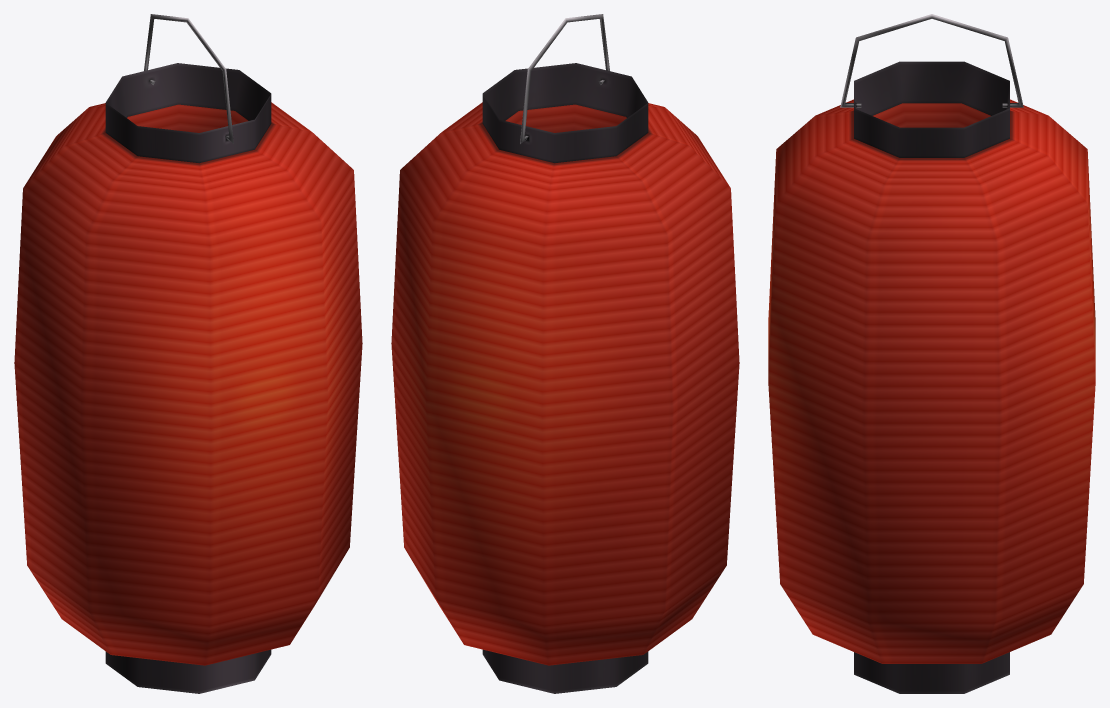
Rendered from jsf_Light_Lantern_03.fbx.
3 views of the same model, side by side, from view 1: azimuth 30°, elevation 25°; view 2: azimuth 150°, elevation 25°; view 3: azimuth 270°, elevation 25° (orthographic).
Visible parts, largest first — view 1: Lantern, Handle; view 2: Lantern, Handle; view 3: Lantern, Handle.
Part boxes in pixels (left/top/right/bottom): Lantern: left=14, top=63, right=362, bottom=693; Handle: left=144, top=14, right=233, bottom=143; Lantern: left=391, top=63, right=739, bottom=693; Handle: left=520, top=14, right=609, bottom=143; Lantern: left=768, top=61, right=1095, bottom=693; Handle: left=840, top=14, right=1023, bottom=107.
Bounding box in the file's own units: 24.44 × 53.27 × 24.44.
